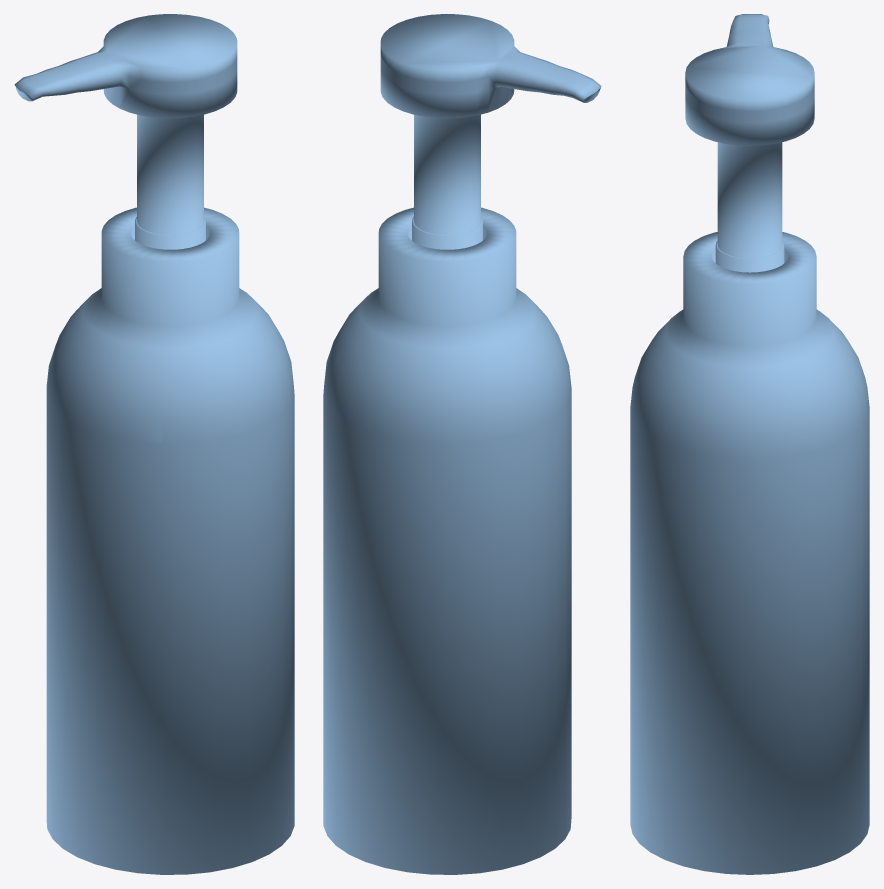
Rendered from xsnj.glb.
The picture shows the model from 3 angles, left to right: view 1: azimuth 30°, elevation 25°; view 2: azimuth 150°, elevation 25°; view 3: azimuth 270°, elevation 25°; orthographic projection. The views are drawn at different scales.
Visible parts, largest first — view 1: 柱体; view 2: 柱体; view 3: 柱体.
Part boxes in pixels (x1,y1,x2,y2): 柱体: [14, 14, 294, 874]; 柱体: [323, 14, 601, 874]; 柱体: [630, 14, 869, 874].
Bounding box in the file's own units: 2.39 × 6.93 × 2.
